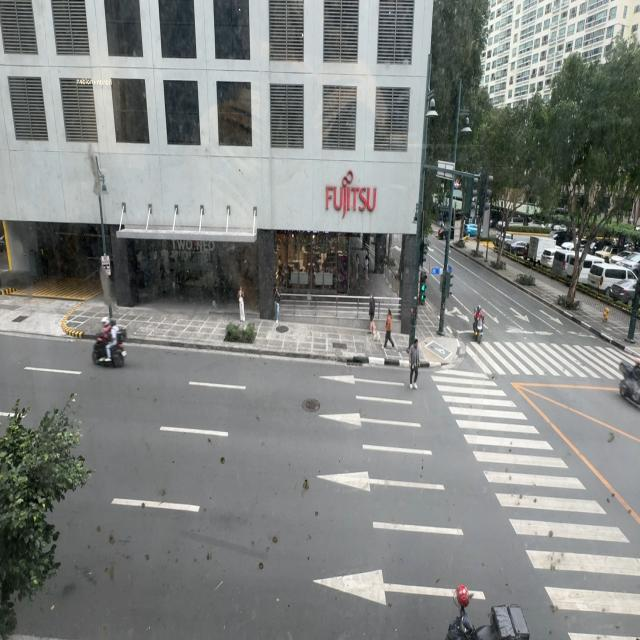jaywalking: (409, 338, 420, 389)
pedestrain: (382, 309, 395, 349), (273, 282, 281, 324), (368, 294, 376, 333), (355, 254, 360, 283), (364, 254, 369, 280)
